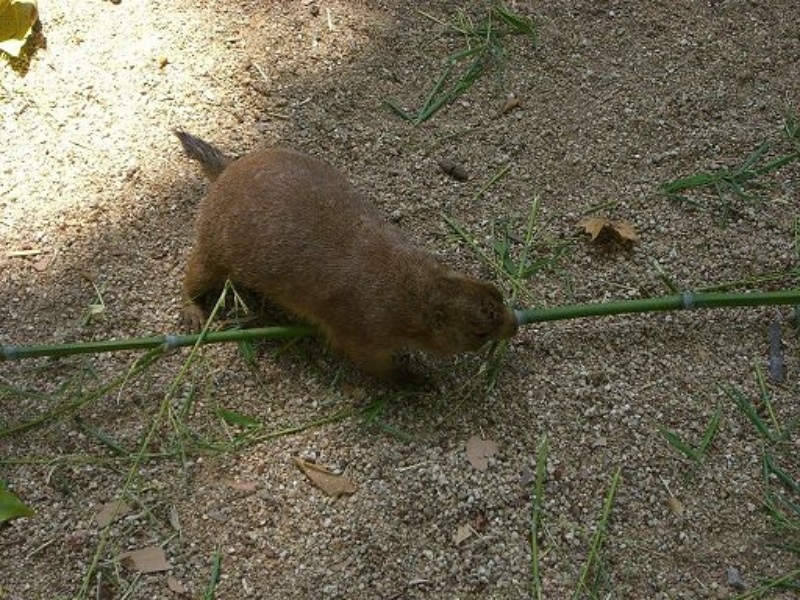minkish: (159, 116, 522, 398)
